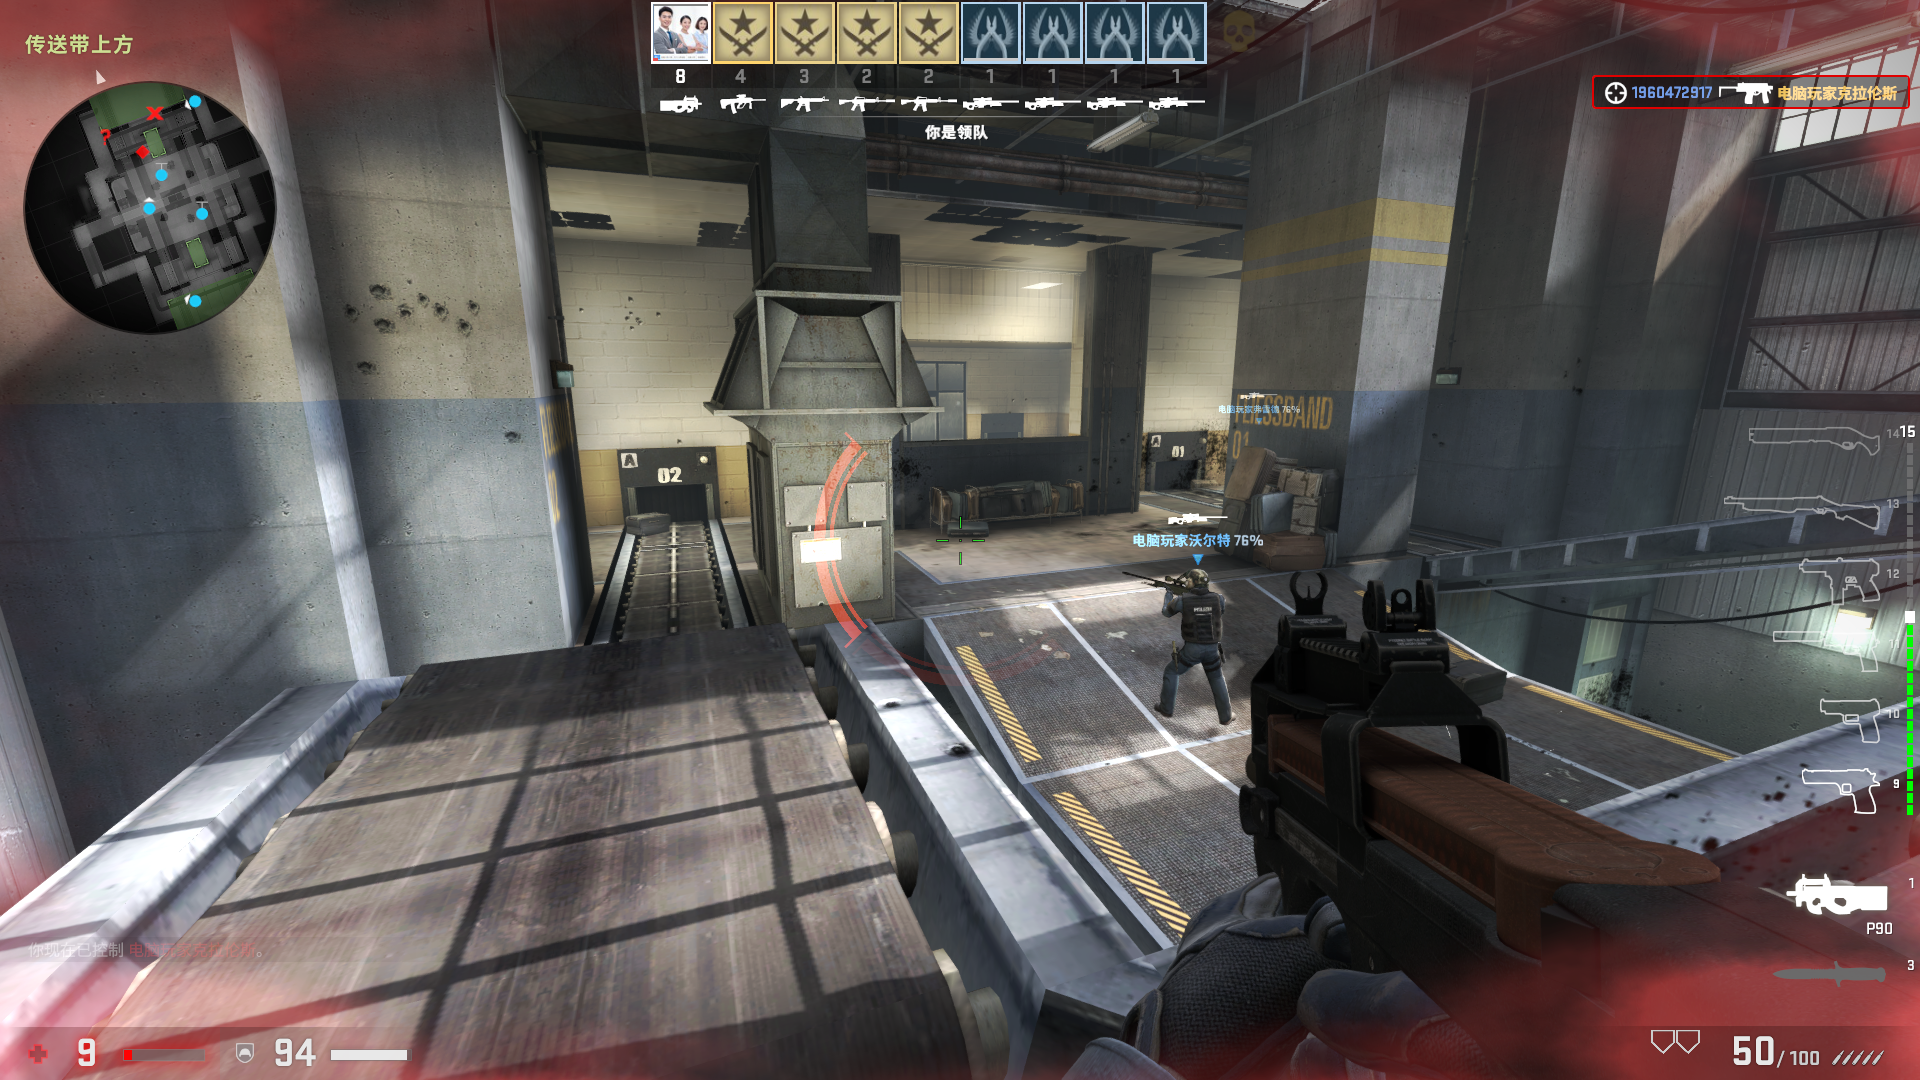person: (1140, 559, 1238, 724)
